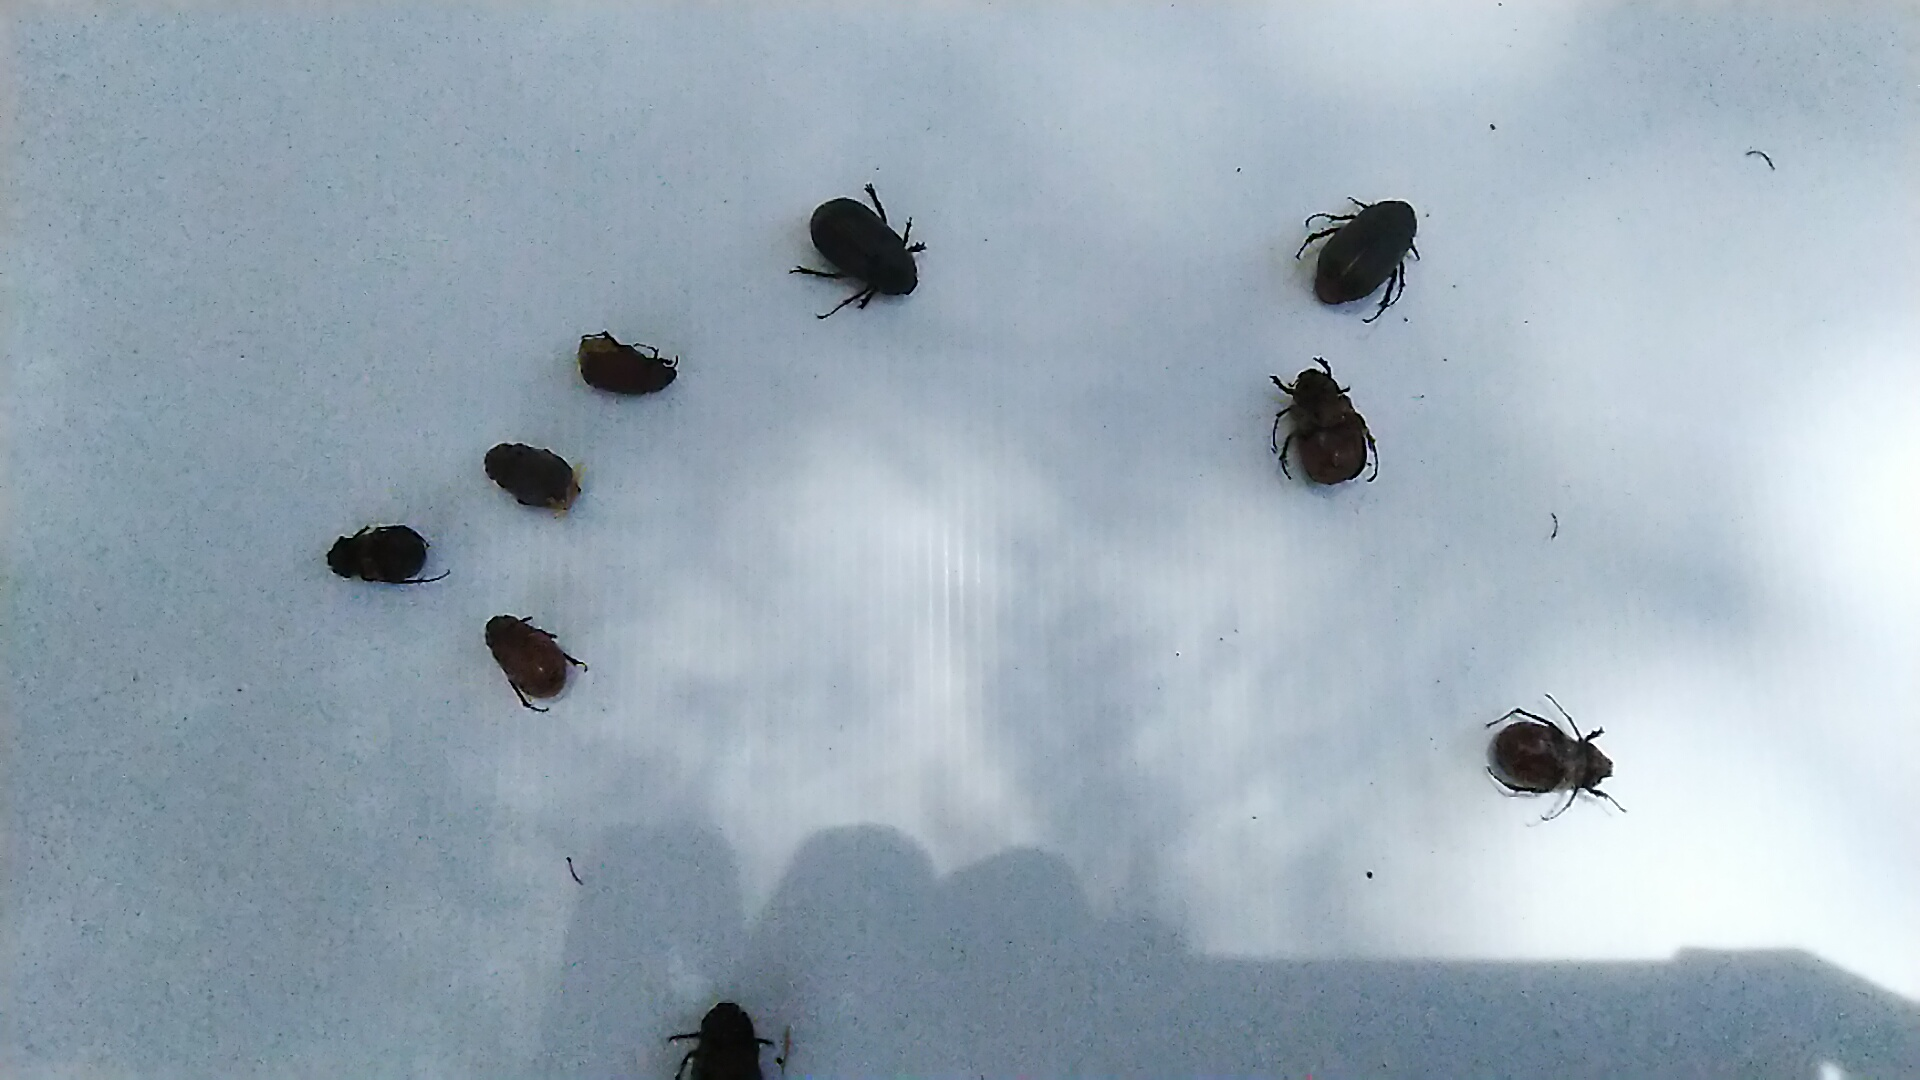INS-A: (781, 167, 935, 322), (1247, 355, 1395, 506), (1279, 185, 1424, 326), (1484, 691, 1629, 824), (477, 607, 599, 717), (665, 986, 785, 1080), (313, 518, 458, 593), (472, 436, 593, 518), (564, 326, 699, 396)
